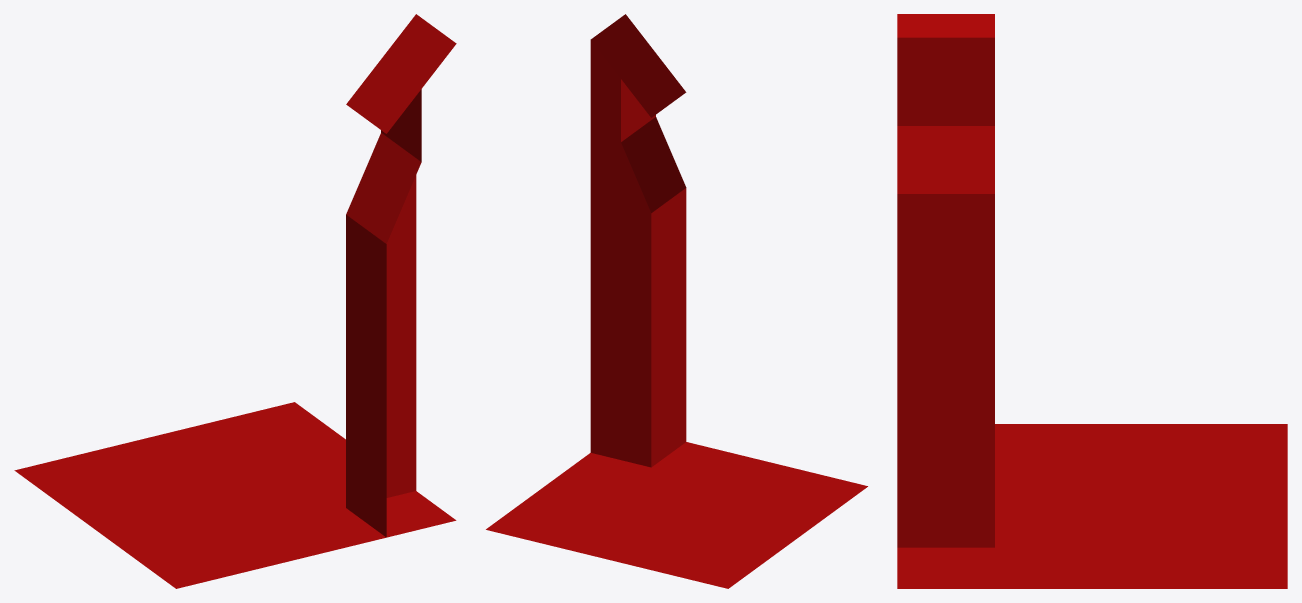
The model's file is mesh_barn_endL.fbx.
The picture shows the model from 3 angles, left to right: view 1: azimuth 30°, elevation 25°; view 2: azimuth 150°, elevation 25°; view 3: azimuth 270°, elevation 25°; orthographic projection. The views are drawn at different scales.
Parts seen in each view (by area): view 1: mesh_barn_endSmlRL; view 2: mesh_barn_endSmlRL; view 3: mesh_barn_endSmlRL.
Part boxes in pixels (left/top/right/bottom): mesh_barn_endSmlRL: left=14, top=14, right=456, bottom=588; mesh_barn_endSmlRL: left=486, top=14, right=867, bottom=588; mesh_barn_endSmlRL: left=897, top=14, right=1287, bottom=588.
Size of the model in its own units: 400 by 650 by 400.
